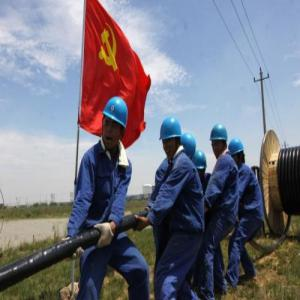blue: (101, 97, 130, 151), (160, 116, 183, 157), (210, 124, 230, 158), (229, 137, 247, 171), (192, 150, 207, 184)
